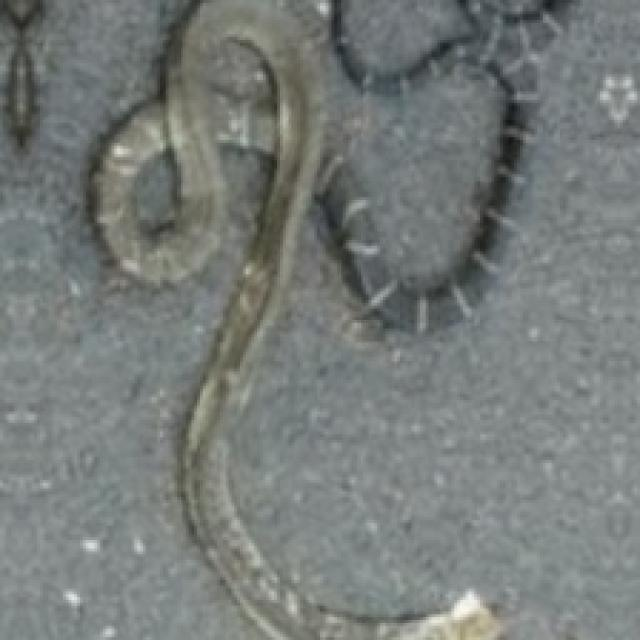king cobra: (177, 0, 637, 637), (291, 143, 491, 337)
